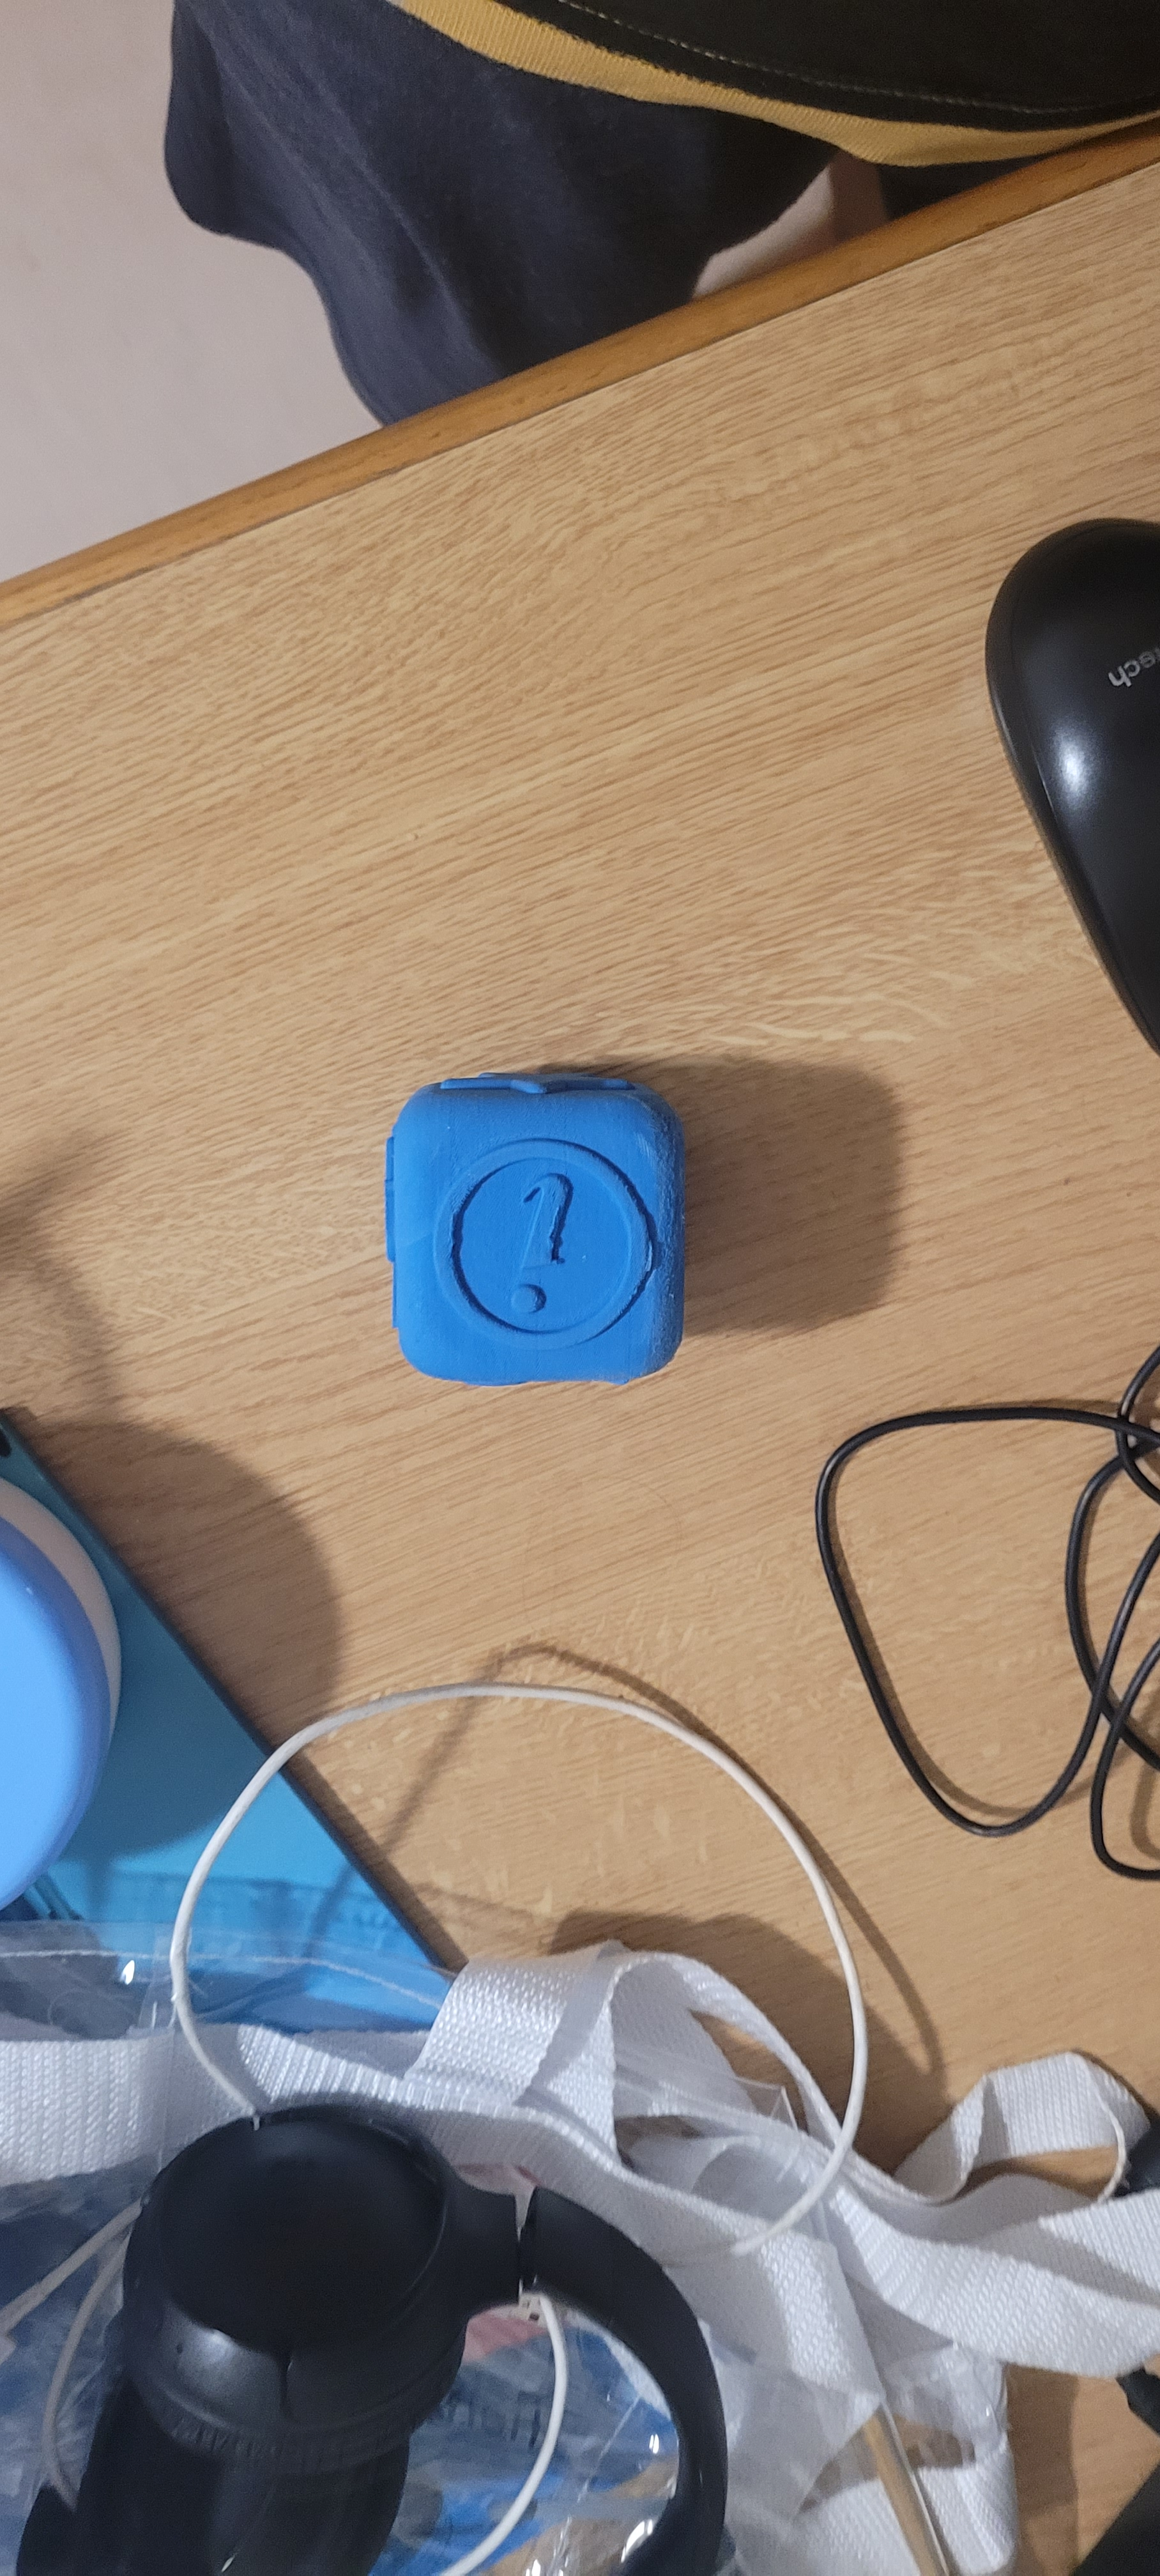Info: (426, 1112, 662, 1380)
